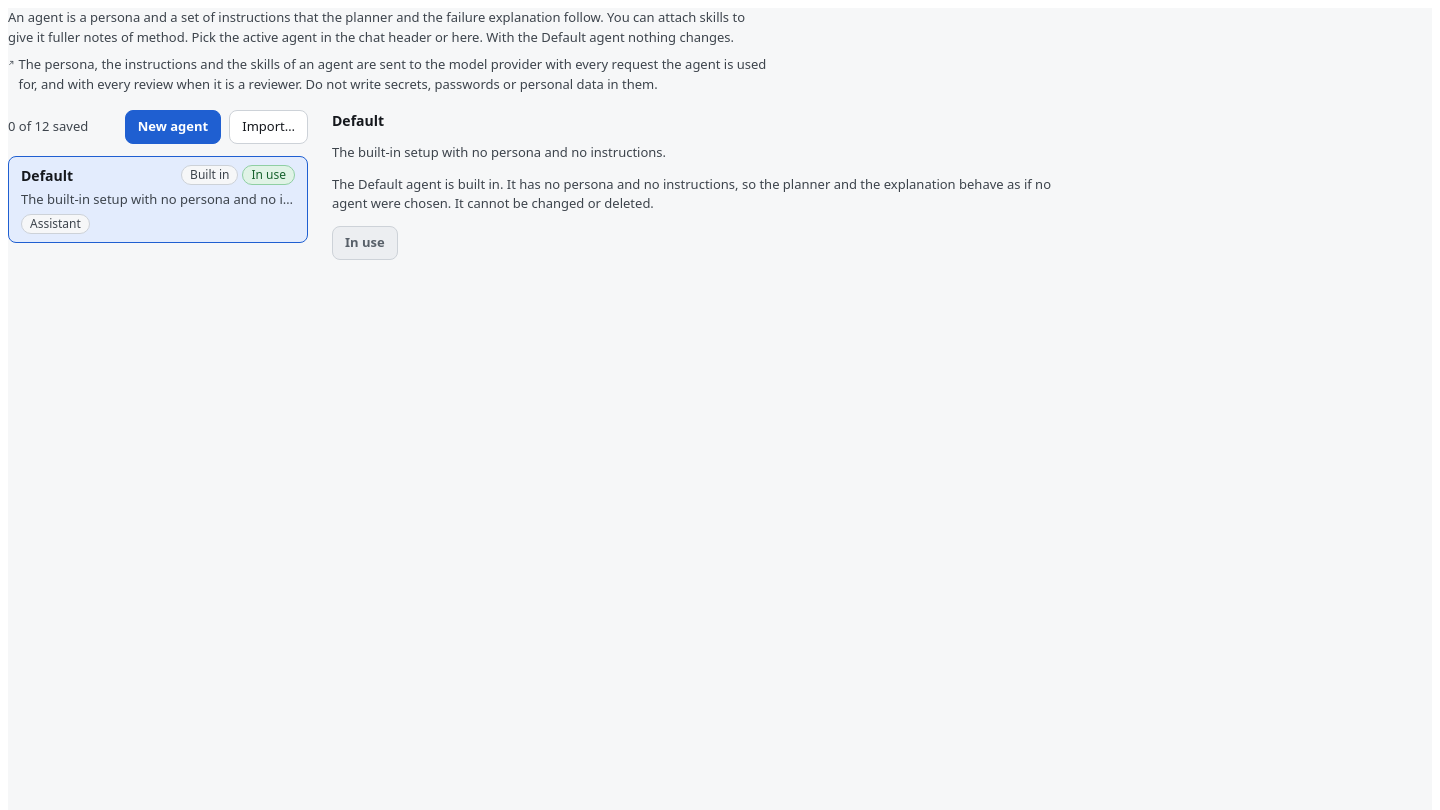
it: the review of an imported file › makes a file name Default, which is the name of the built-in agent, be changed first
Expected: the list named "Agent list" is shown, x1=8 y1=156 x2=308 y2=242
Click the button "Import…": (269,127) x1=229 y1=110 x2=308 y2=144
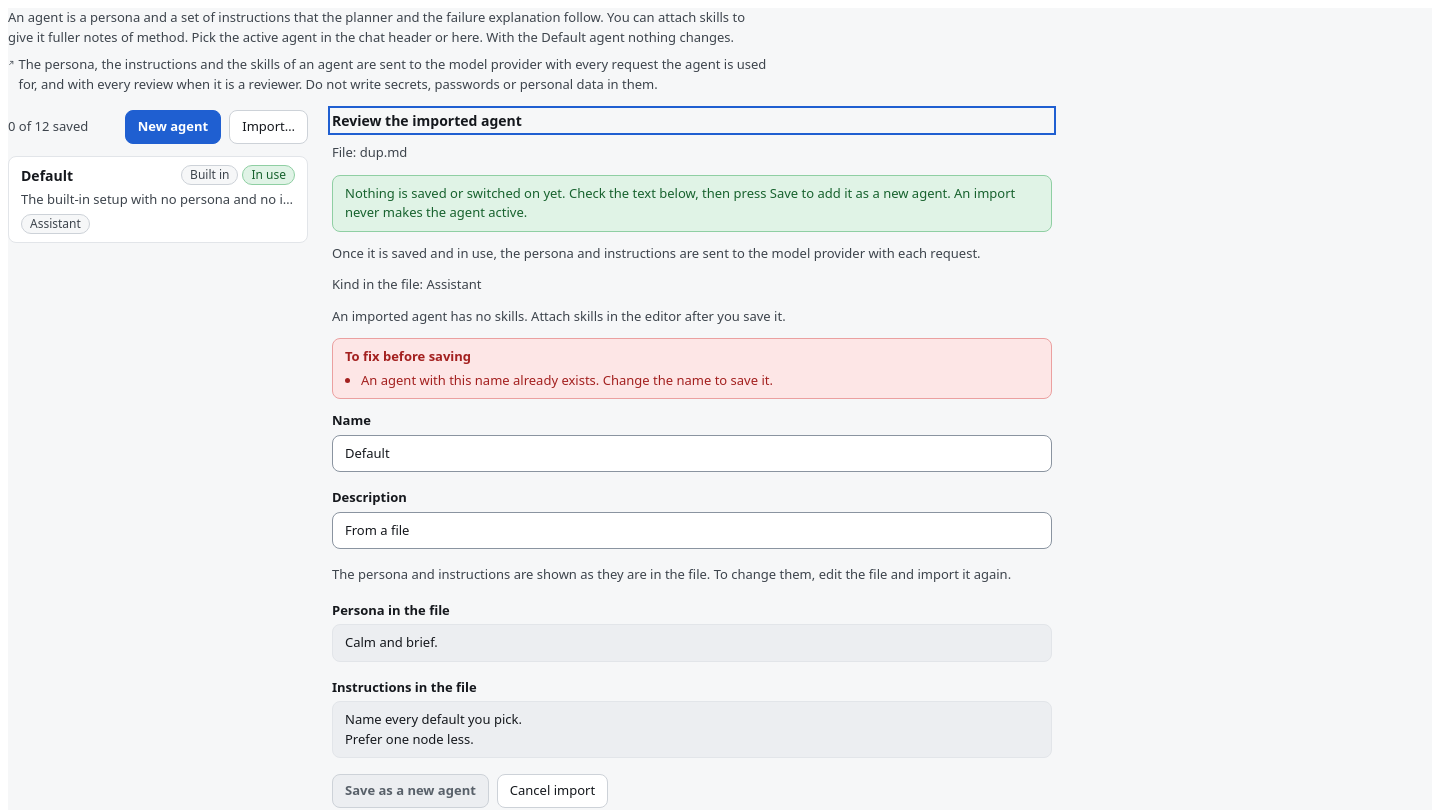
Now the heading "Review the imported agent" is shown, box x1=332 y1=111 x2=522 y2=130
Now the message shows "An agent with this name already exists. Change the name to save it.", box x1=361 y1=370 x2=773 y2=388
Now the button "Save as a new agent" is disabled, box x1=332 y1=774 x2=489 y2=808
